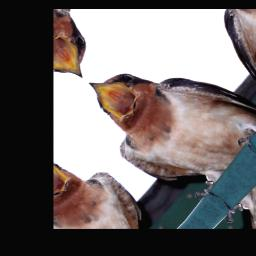Swallow: (63, 16, 256, 218)
